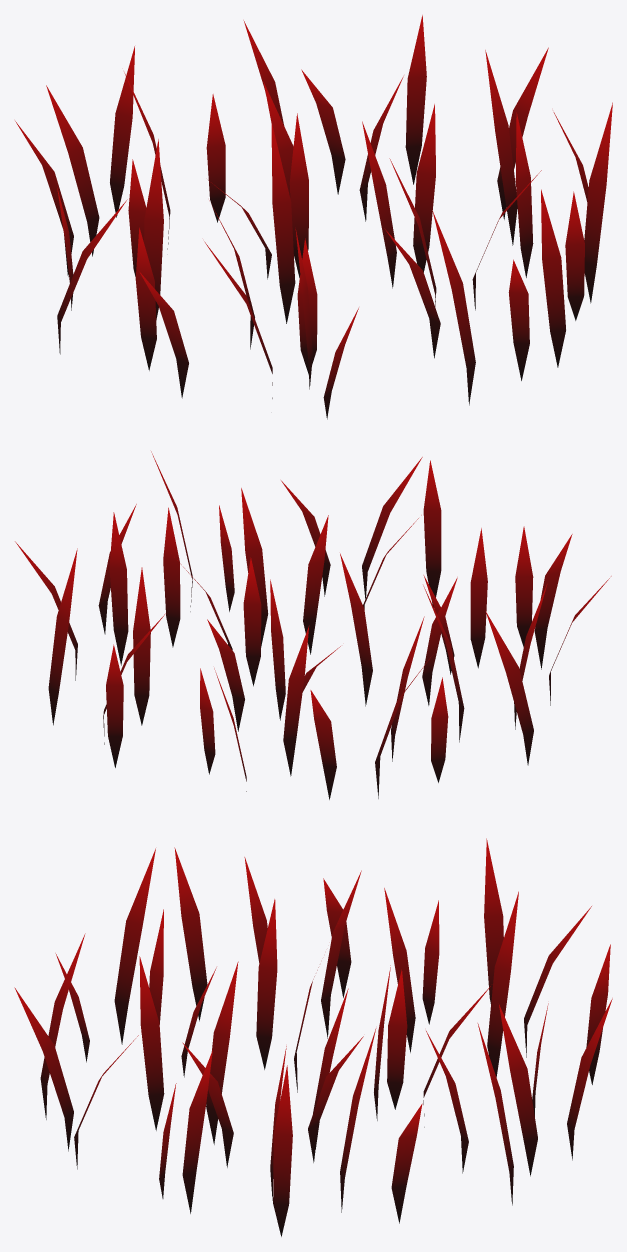
File: SM_Grass1_LOD1.fbx
3 renders of one model, top to bottom at view 1: azimuth 30°, elevation 25°; view 2: azimuth 150°, elevation 25°; view 3: azimuth 270°, elevation 25°, orthographic. The views are drawn at different scales.
Visible parts, largest first — view 1: Plane.001; view 2: Plane.001; view 3: Plane.001.
Boxes of the visible parts, box(x1,y1,x2,y2) form: Plane.001: box(15, 15, 612, 419); Plane.001: box(15, 451, 611, 799); Plane.001: box(14, 838, 612, 1236).
Size of the model in its own units: 1.03 by 0.3455 by 1.02.
